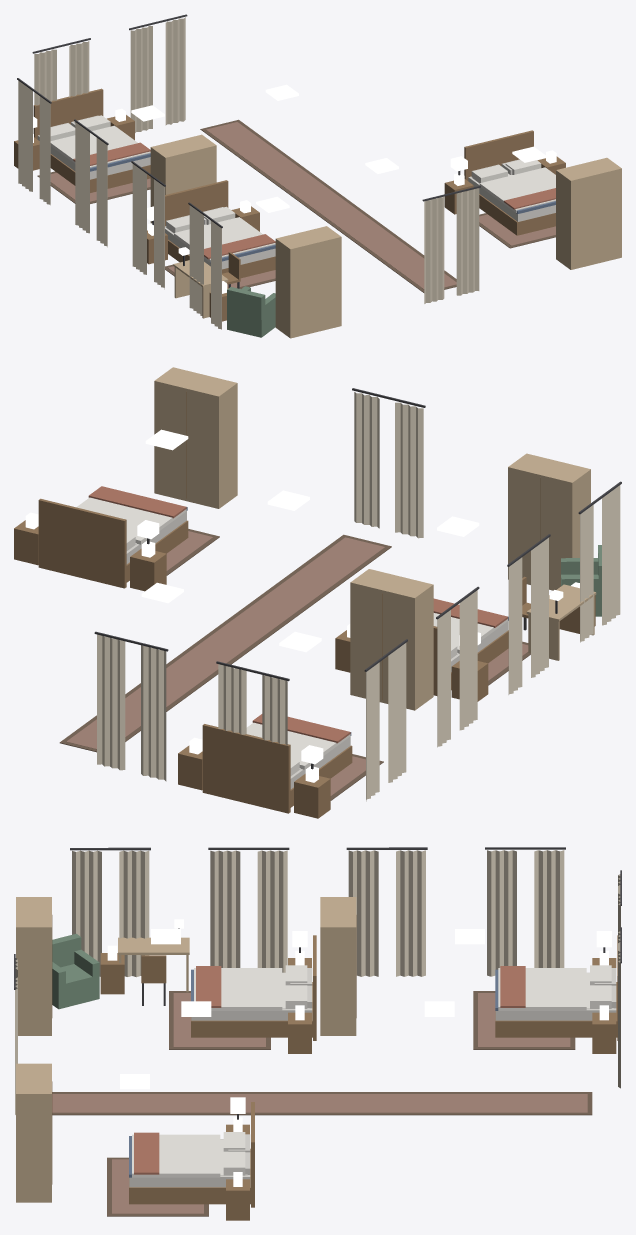
The model's file is fine-s1.glb.
3 views of the same model, one above another, from view 1: azimuth 30°, elevation 25°; view 2: azimuth 150°, elevation 25°; view 3: azimuth 270°, elevation 25° (orthographic). The views are drawn at different scales.
Visible parts, largest first — view 1: soft-s1, dresser.002, dresser.000, bed-frame.000, bed-frame.001, dresser.001, bed-frame.002, lounge-chair.000, writing-desk.000, nightstand.000, nightstand.003, nightstand.005; view 2: soft-s1, dresser.000, dresser.001, dresser.002, bed-frame.000, bed-frame.001, writing-desk.000, nightstand.002, nightstand.000, bed-frame.002, nightstand.001, nightstand.003 (+3 smaller); view 3: soft-s1, dresser.000, dresser.001, dresser.002, bed-frame.000, bed-frame.002, bed-frame.001, lounge-chair.000, writing-desk.000, nightstand.003, side-table.000, nightstand.001 (+2 smaller).
Boxes of the visible parts, left/top/right/bottom form: soft-s1: left=17, top=14, right=555, bottom=329; dresser.002: left=275, top=226, right=341, bottom=338; dresser.000: left=556, top=157, right=621, bottom=269; bed-frame.000: left=464, top=130, right=555, bottom=235; bed-frame.001: left=33, top=88, right=150, bottom=192; dresser.001: left=150, top=134, right=216, bottom=223; bed-frame.002: left=165, top=180, right=275, bottom=278; lounge-chair.000: left=227, top=286, right=275, bottom=337; writing-desk.000: left=173, top=247, right=228, bottom=318; nightstand.000: left=444, top=172, right=473, bottom=214; nightstand.003: left=107, top=108, right=134, bottom=140; nightstand.005: left=231, top=200, right=259, bottom=231; soft-s1: left=59, top=388, right=621, bottom=801; dresser.000: left=154, top=367, right=237, bottom=508; dresser.001: left=350, top=569, right=433, bottom=710; dresser.002: left=508, top=453, right=590, bottom=590; bed-frame.000: left=38, top=498, right=188, bottom=588; bed-frame.001: left=202, top=724, right=352, bottom=813; writing-desk.000: left=526, top=584, right=596, bottom=660; nightstand.002: left=294, top=766, right=330, bottom=818; nightstand.000: left=130, top=541, right=166, bottom=591; bed-frame.002: left=433, top=616, right=508, bottom=695; nightstand.001: left=14, top=512, right=38, bottom=565; nightstand.003: left=178, top=737, right=202, bottom=790; soft-s1: left=14, top=847, right=621, bottom=1216; dresser.000: left=16, top=1063, right=52, bottom=1202; dresser.001: left=320, top=897, right=356, bottom=1035; dresser.002: left=16, top=897, right=52, bottom=1035; bed-frame.000: left=129, top=1102, right=254, bottom=1207; bed-frame.002: left=191, top=935, right=316, bottom=1040; bed-frame.001: left=495, top=935, right=617, bottom=1040; lounge-chair.000: left=52, top=933, right=99, bottom=1009; writing-desk.000: left=118, top=919, right=189, bottom=992; nightstand.003: left=592, top=1005, right=616, bottom=1053; side-table.000: left=100, top=945, right=124, bottom=994; nightstand.001: left=226, top=1172, right=249, bottom=1220.
Size of the model in its own units: 9.6 by 2.4 by 10.14.
